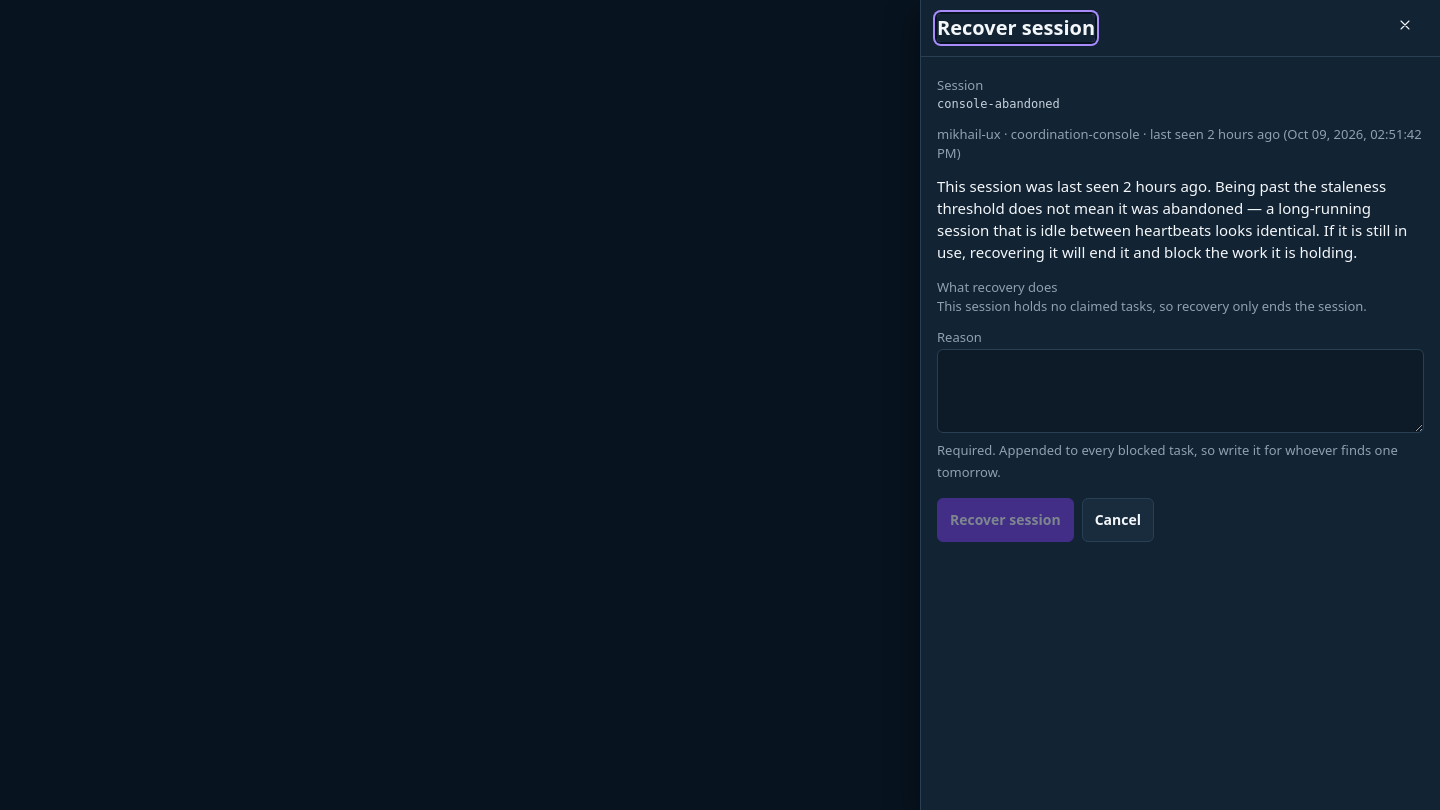
SessionRecovery — outcomes › reports an empty recovery honestly rather than claiming work was blocked
Type "no longer needed" into the text box labelled "Reason".
click(1180, 391); type("no longer needed")  # box top-left (937, 349), bottom-right (1424, 433)
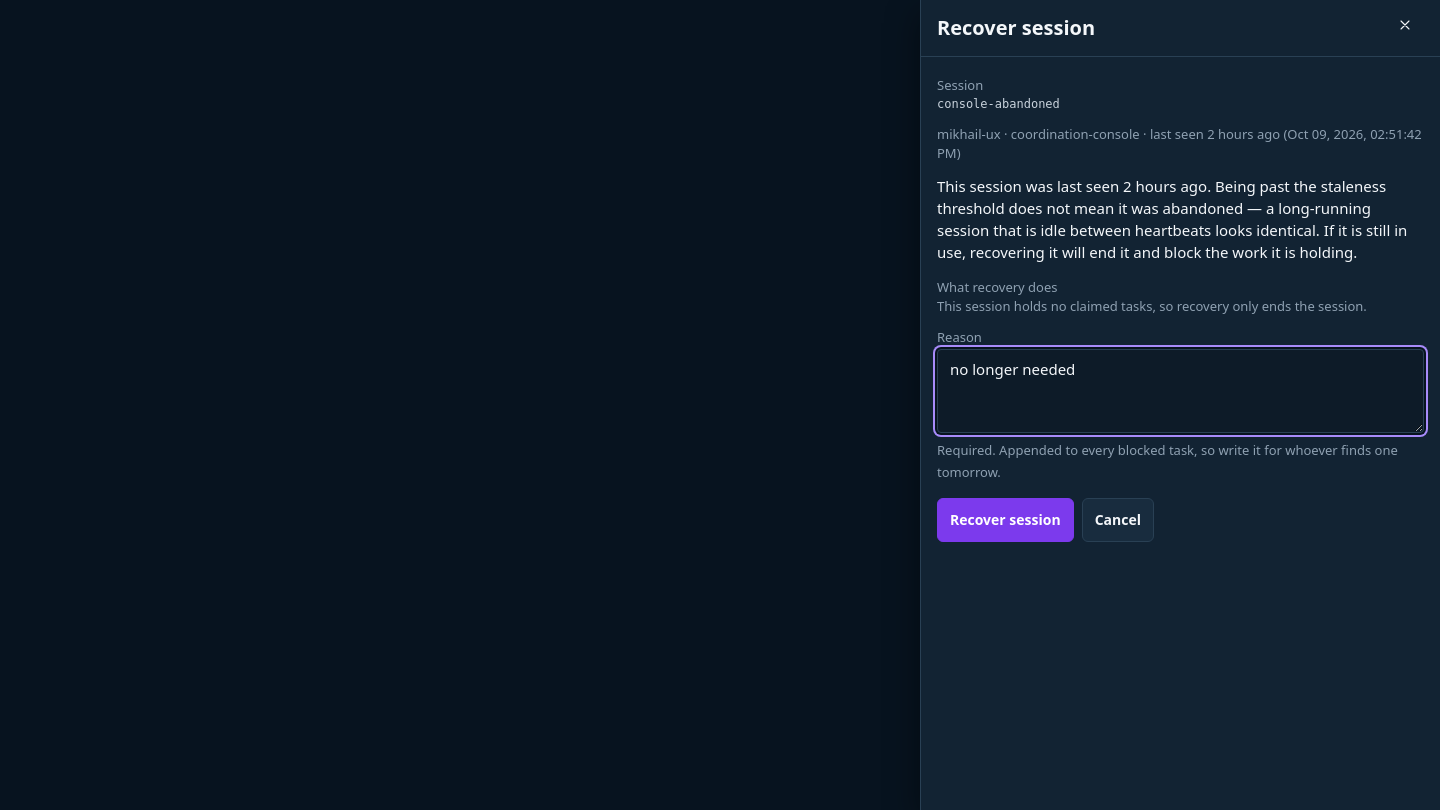
Click the button "Recover session".
click(1005, 520)  # box top-left (937, 498), bottom-right (1074, 542)
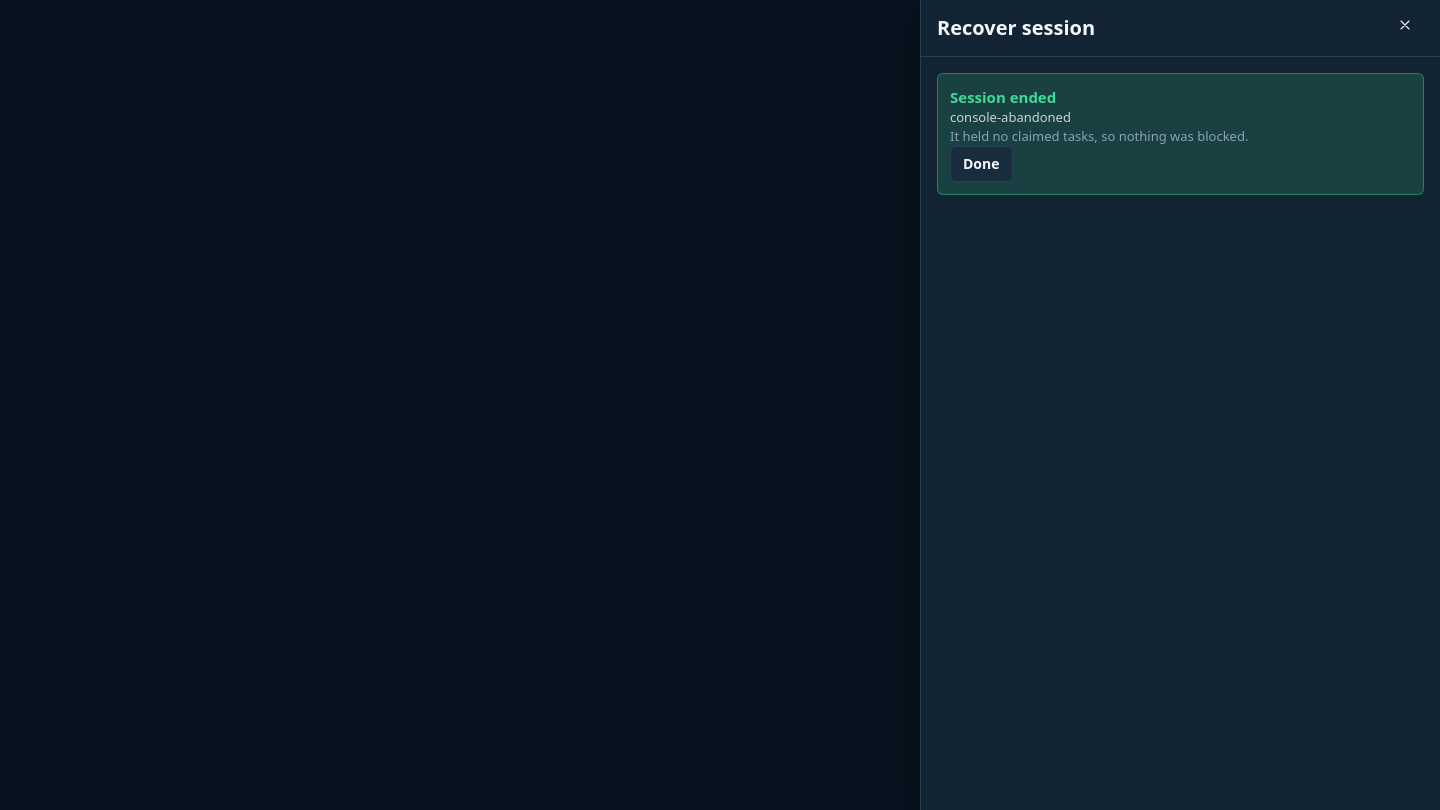
expect the message is shown: met, box top-left (937, 73), bottom-right (1424, 195)
expect the text "It held no claimed tasks, so nothing was blocked." is shown: met, box top-left (950, 127), bottom-right (1248, 145)
